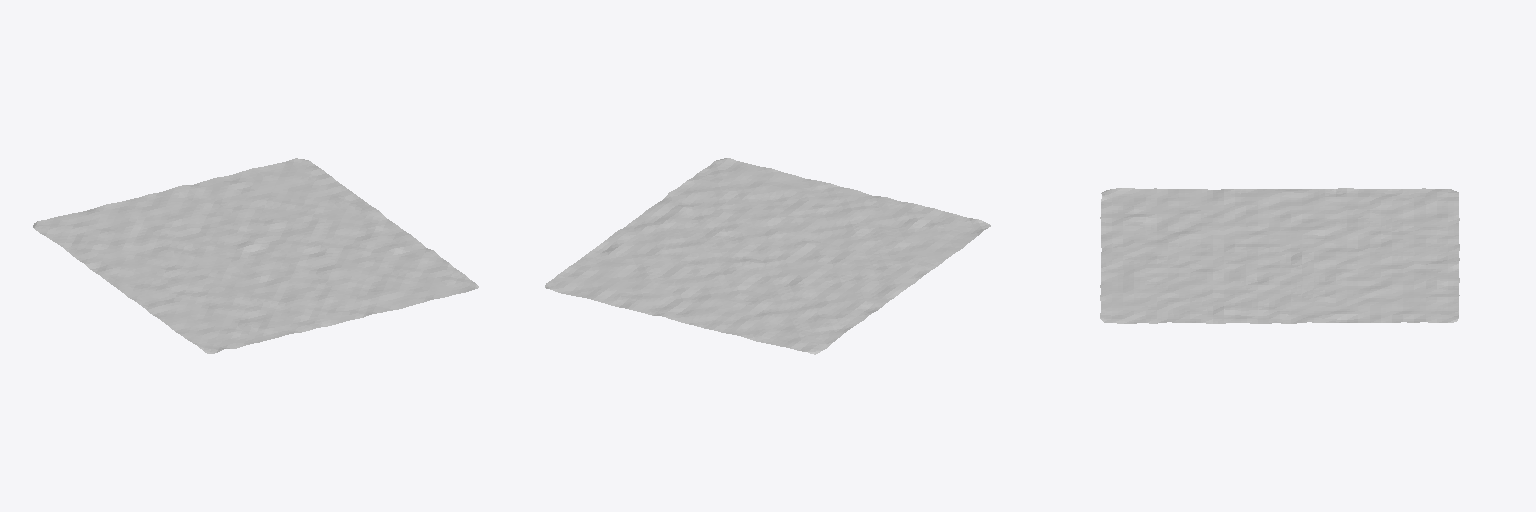
File: grass.obj
3 renders of one model, left to right at view 1: azimuth 30°, elevation 25°; view 2: azimuth 150°, elevation 25°; view 3: azimuth 270°, elevation 25°, orthographic.
Visible parts, largest first — view 1: Plane; view 2: Plane; view 3: Plane.
Boxes of the visible parts, x1,y1,x2,y2 form: Plane: [33, 158, 478, 353]; Plane: [545, 158, 990, 354]; Plane: [1100, 188, 1459, 323].
Bounding box in the file's own units: 13.42 × 0.1136 × 15.11.